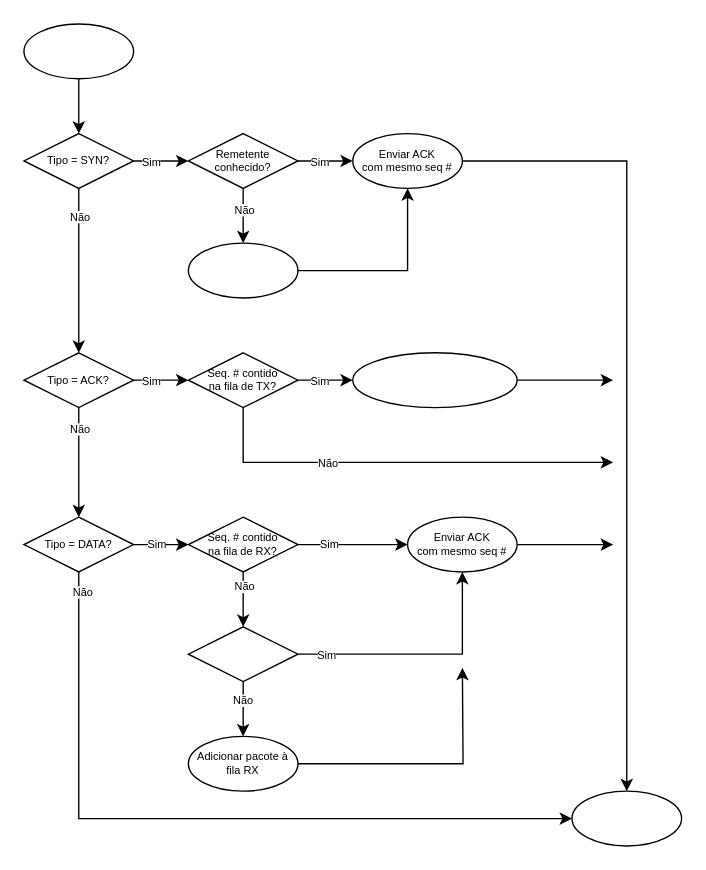
This 706x870 diagram has some shape labels left out. The centre of each missing label's shape, as x and y in pixels:
"Datagrama recebido" belongs at point 78,51.
"Fim" belongs at point 626,818.
"Registrar cliente novo" belongs at point 242,270.
"Remover da fila de TX, (transmissão confirmada)" belongs at point 434,379.
"Seq. # < next_seq" belongs at point 242,653.
